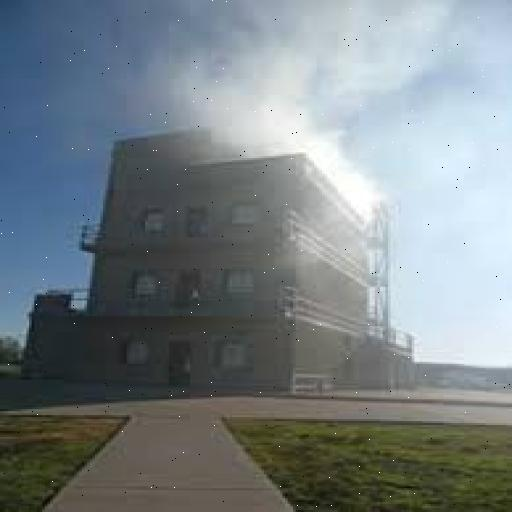smoke: (156, 2, 443, 186)
